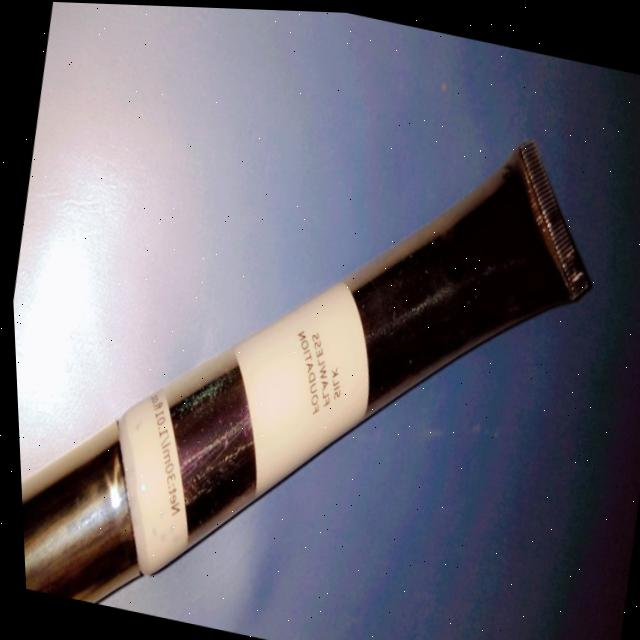bb cream: (1, 24, 640, 640)
